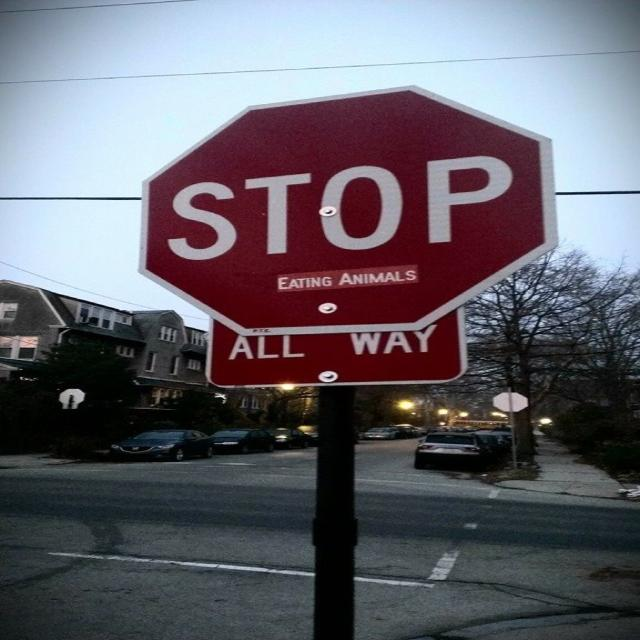Stop-sign: (132, 84, 560, 337)
